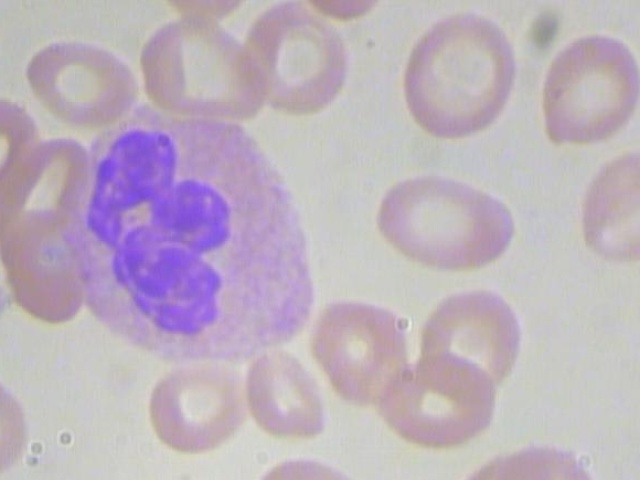Platelets: (0, 280, 13, 324)
RBC: (391, 4, 527, 140), (371, 170, 518, 272), (531, 15, 640, 150), (370, 342, 510, 447), (411, 286, 551, 391), (10, 25, 144, 127), (306, 298, 420, 417), (240, 0, 357, 115), (140, 354, 257, 463), (566, 150, 640, 279), (246, 346, 332, 448), (0, 365, 37, 480), (136, 0, 272, 26)
WBC: (59, 98, 335, 373)
